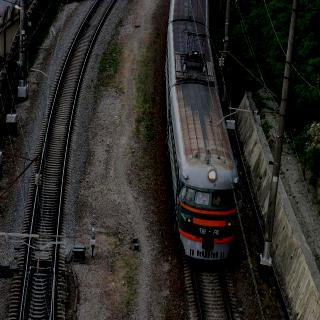poezd: (166, 25, 235, 267)
